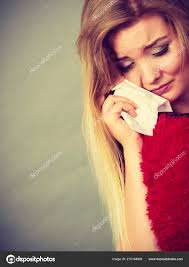Sad: (97, 10, 189, 102)
